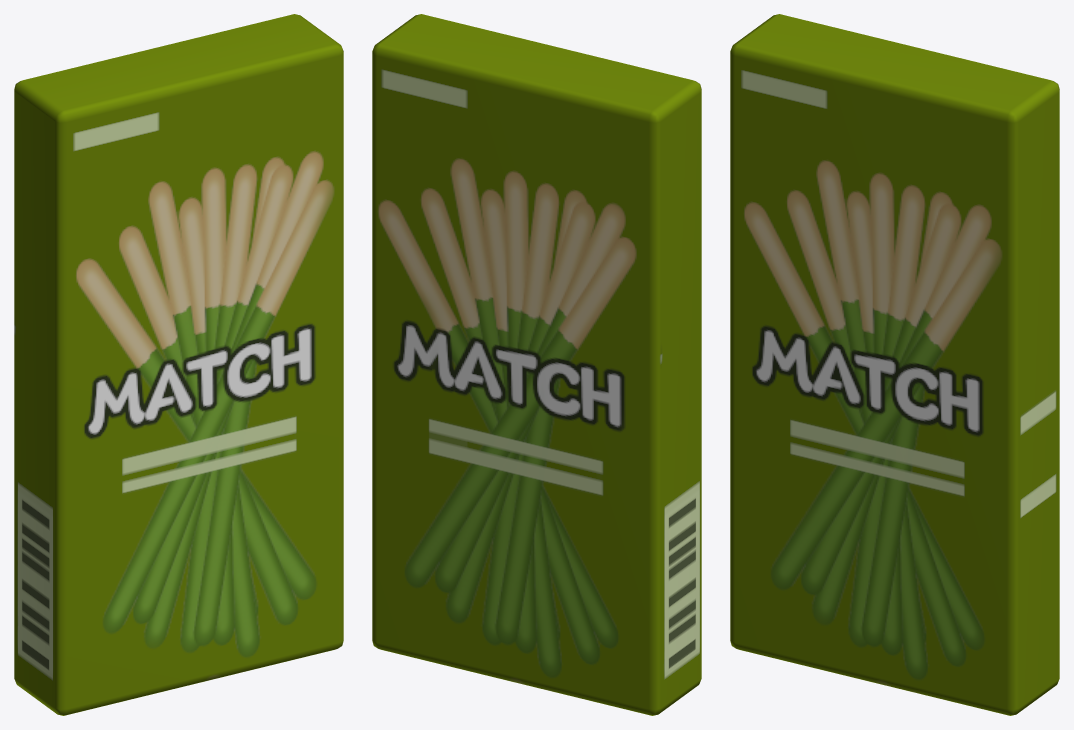
The model's file is chocolateba_green.fbx.
3 views of the same model, side by side, from view 1: azimuth 30°, elevation 25°; view 2: azimuth 150°, elevation 25°; view 3: azimuth 330°, elevation 25° (orthographic).
Parts seen in each view (by area): view 1: chocolateba_green; view 2: chocolateba_green; view 3: chocolateba_green.
Boxes of the visible parts, <box> form: chocolateba_green: <box>14,14,343,715</box>; chocolateba_green: <box>372,14,701,715</box>; chocolateba_green: <box>730,14,1059,715</box>.
Size of the model in its own units: 0.4986 by 1 by 0.1436.
